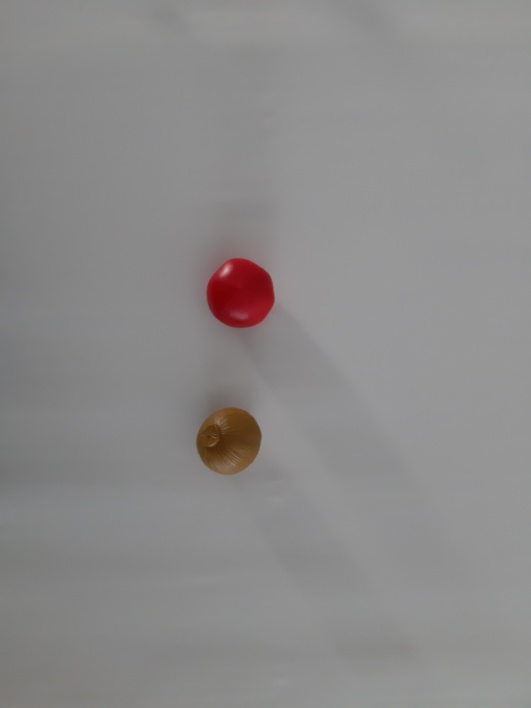onion: (182, 392, 278, 493)
tomato: (191, 251, 291, 336)
